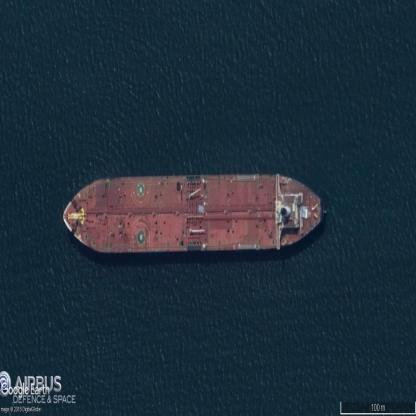ship: (64, 175, 322, 249)
